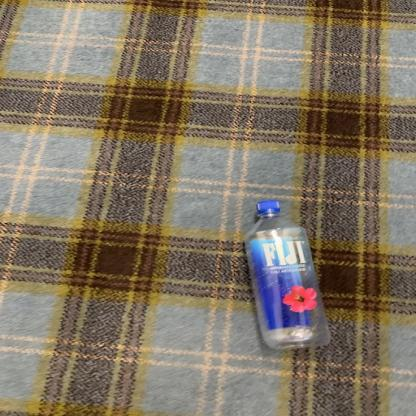trash: (240, 202, 338, 352)
